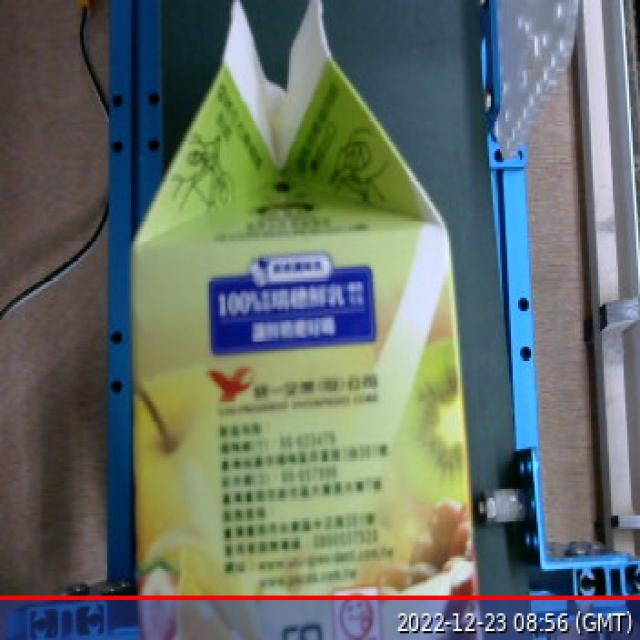non_white_jug: (114, 2, 495, 640)
